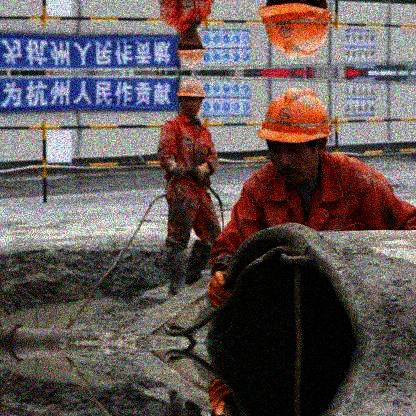helmet: (255, 88, 334, 188), (174, 76, 206, 123), (179, 27, 208, 65)
